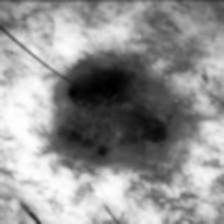Potentially Malignant Skin Tumors: (68, 68, 164, 152)
